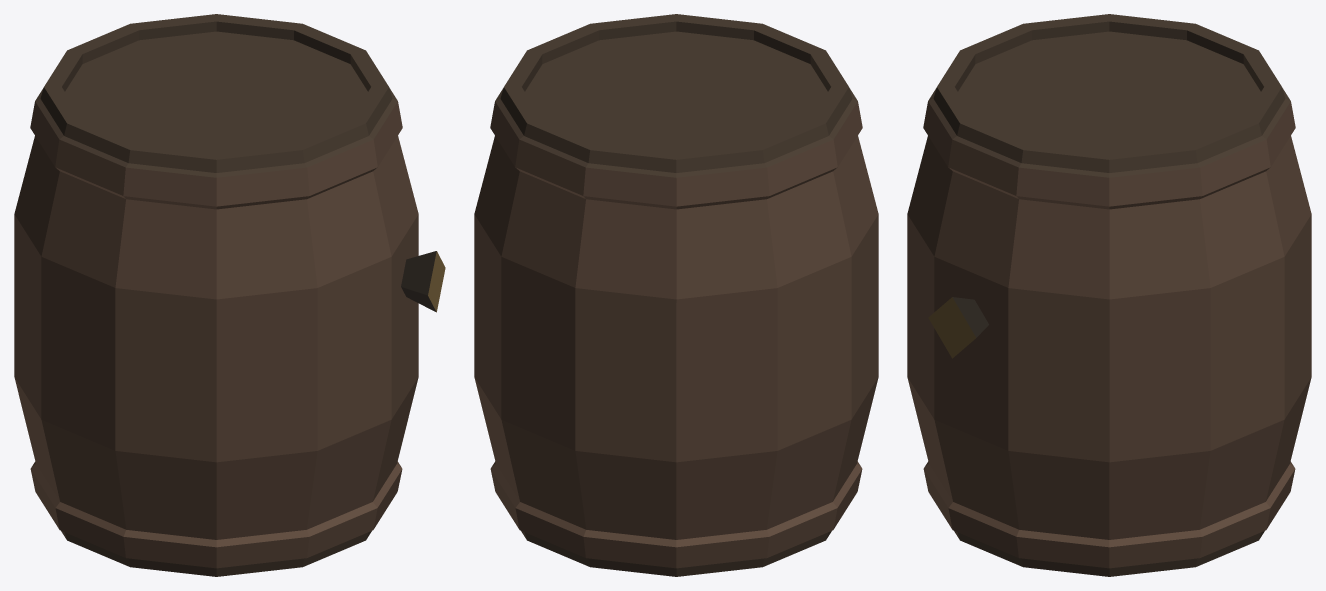
The model's file is Barrel_1.fbx.
3 renders of one model, left to right at view 1: azimuth 30°, elevation 25°; view 2: azimuth 150°, elevation 25°; view 3: azimuth 270°, elevation 25°, orthographic.
Parts seen in each view (by area): view 1: pCube2428; view 2: pCube2428; view 3: pCube2428.
Boxes of the visible parts, <box> form: pCube2428: <box>14,14,445,576</box>; pCube2428: <box>474,14,878,576</box>; pCube2428: <box>907,14,1311,576</box>.
Bounding box in the file's own units: 70.28 × 80 × 70.28.
